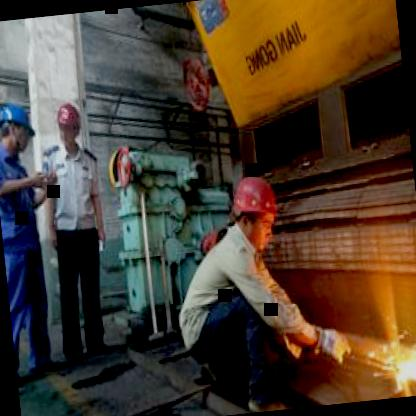helmet: (225, 169, 286, 255), (0, 97, 35, 155), (52, 96, 84, 145)
